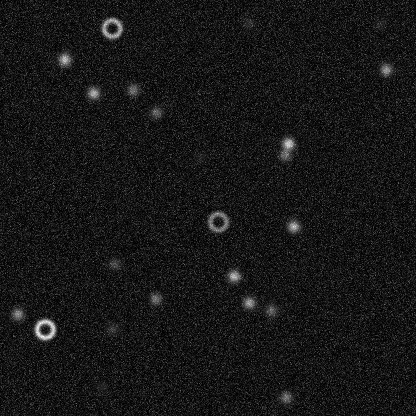Ring: (99, 16, 123, 40), (32, 317, 56, 341), (205, 209, 229, 233)
Spot: (240, 294, 256, 310), (85, 85, 101, 101), (225, 268, 241, 284), (124, 81, 140, 97), (285, 218, 301, 234), (147, 290, 163, 306), (277, 389, 293, 405), (276, 147, 292, 163), (262, 302, 278, 318), (240, 15, 256, 31), (106, 256, 122, 272), (103, 320, 119, 336), (9, 305, 25, 321), (148, 104, 164, 120), (280, 135, 296, 151), (56, 51, 72, 67), (377, 61, 393, 77), (371, 16, 387, 32), (191, 148, 207, 164), (93, 378, 109, 394)
